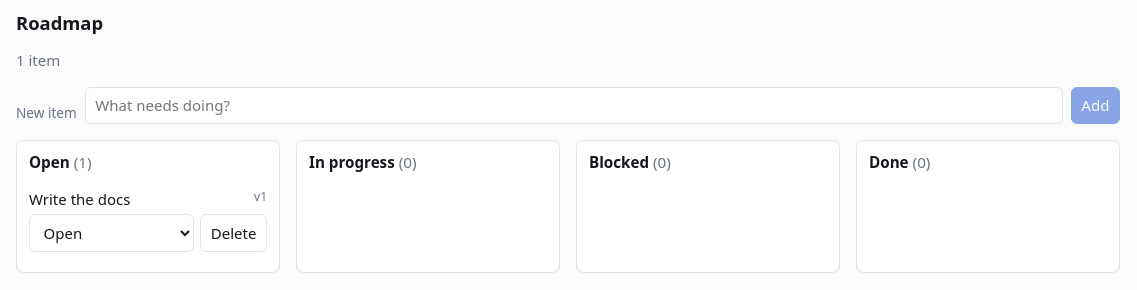
Test: BoardView › removes an item it deleted
The image size is (1137, 290).
Expected: the text "Write the docs" is shown, [29,189,130,209]
What coordinates should you click on to do the following:
click the button with aria-label "Delete Write the docs"
I would click on:
 (234, 233)
Its box is [200,214,267,252].
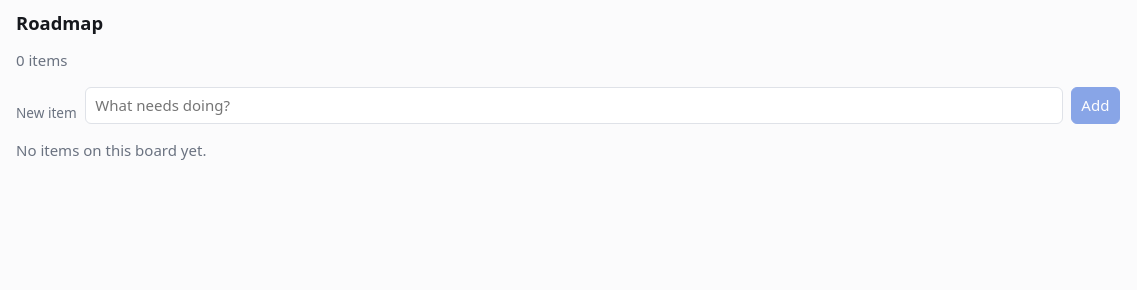
Expected: the text "Write the docs" is gone
